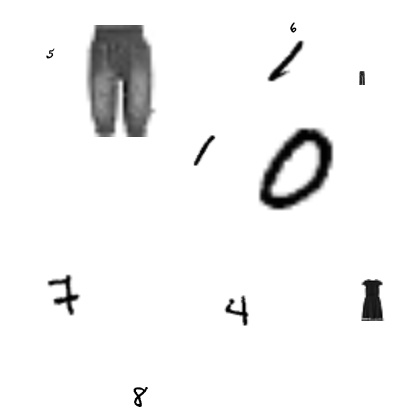0: (240, 113, 352, 225)
1: (256, 35, 312, 91), (182, 128, 224, 170)
4: (217, 288, 259, 330)
5: (43, 47, 57, 61)
6: (286, 21, 300, 35)
7: (36, 265, 92, 321)
8: (125, 381, 153, 409)
Dress: (351, 279, 393, 321)
Trouser: (63, 25, 175, 137), (355, 71, 369, 85)
